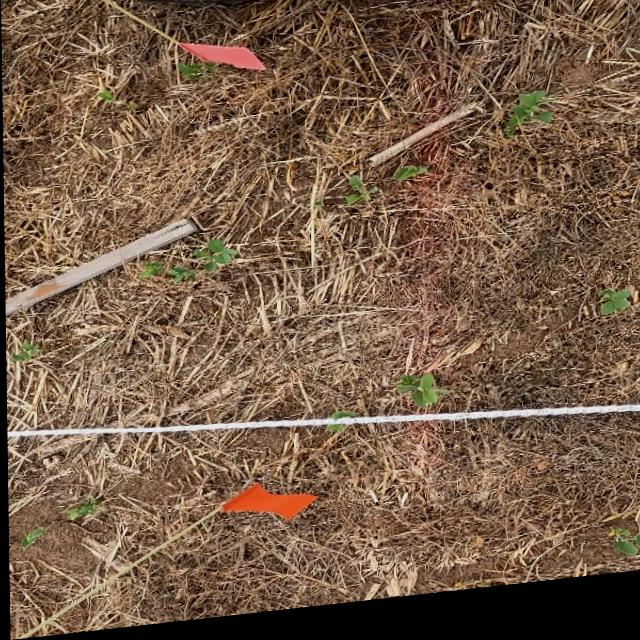soy_plant: (394, 352, 478, 417), (165, 245, 236, 288), (504, 103, 553, 148), (59, 500, 98, 523), (606, 543, 640, 569), (344, 184, 376, 211), (597, 304, 629, 330), (177, 67, 215, 85), (18, 527, 47, 547), (9, 342, 38, 361), (391, 175, 426, 190), (140, 266, 163, 279), (97, 92, 115, 106), (325, 432, 343, 439)
